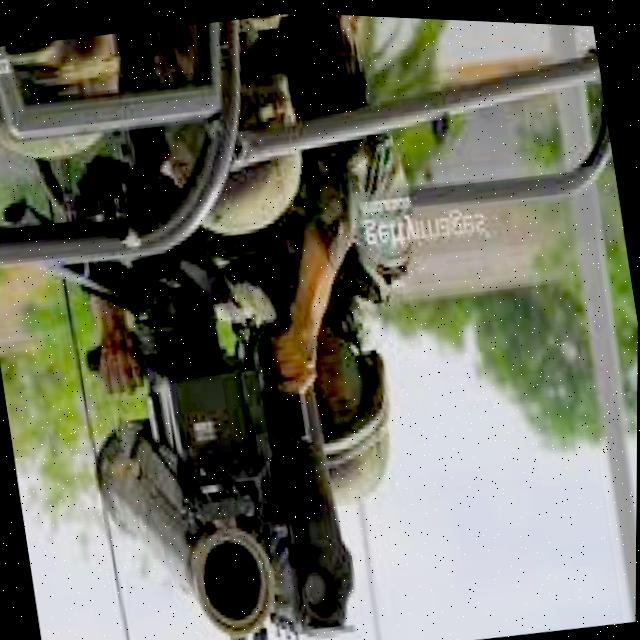rocket: (91, 409, 282, 640)
